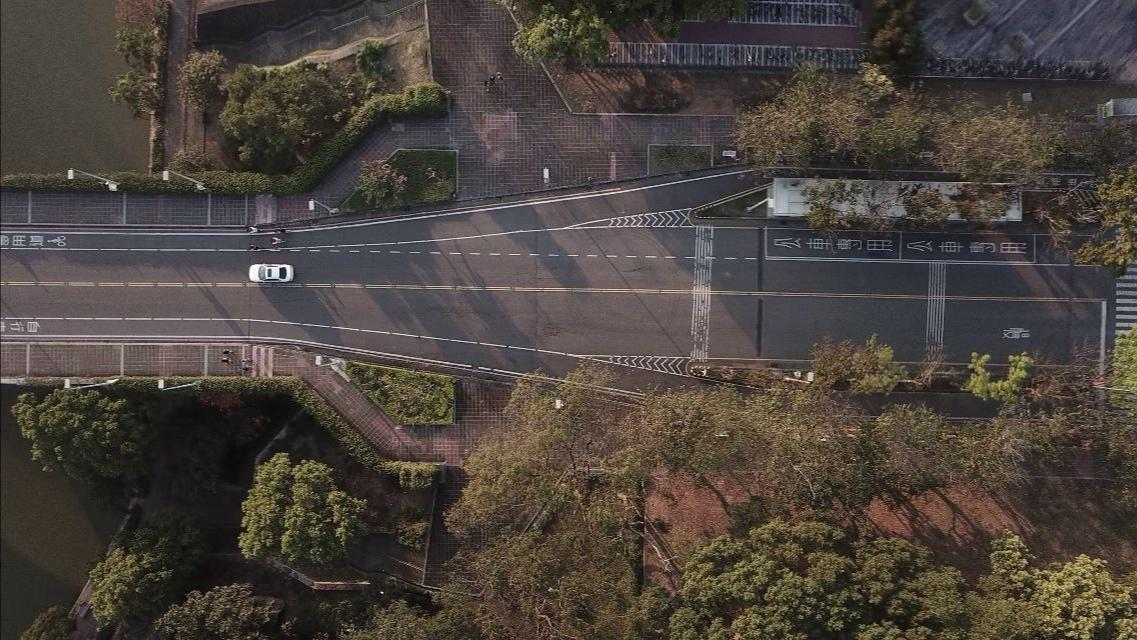vehicle: (248, 263, 293, 283)
